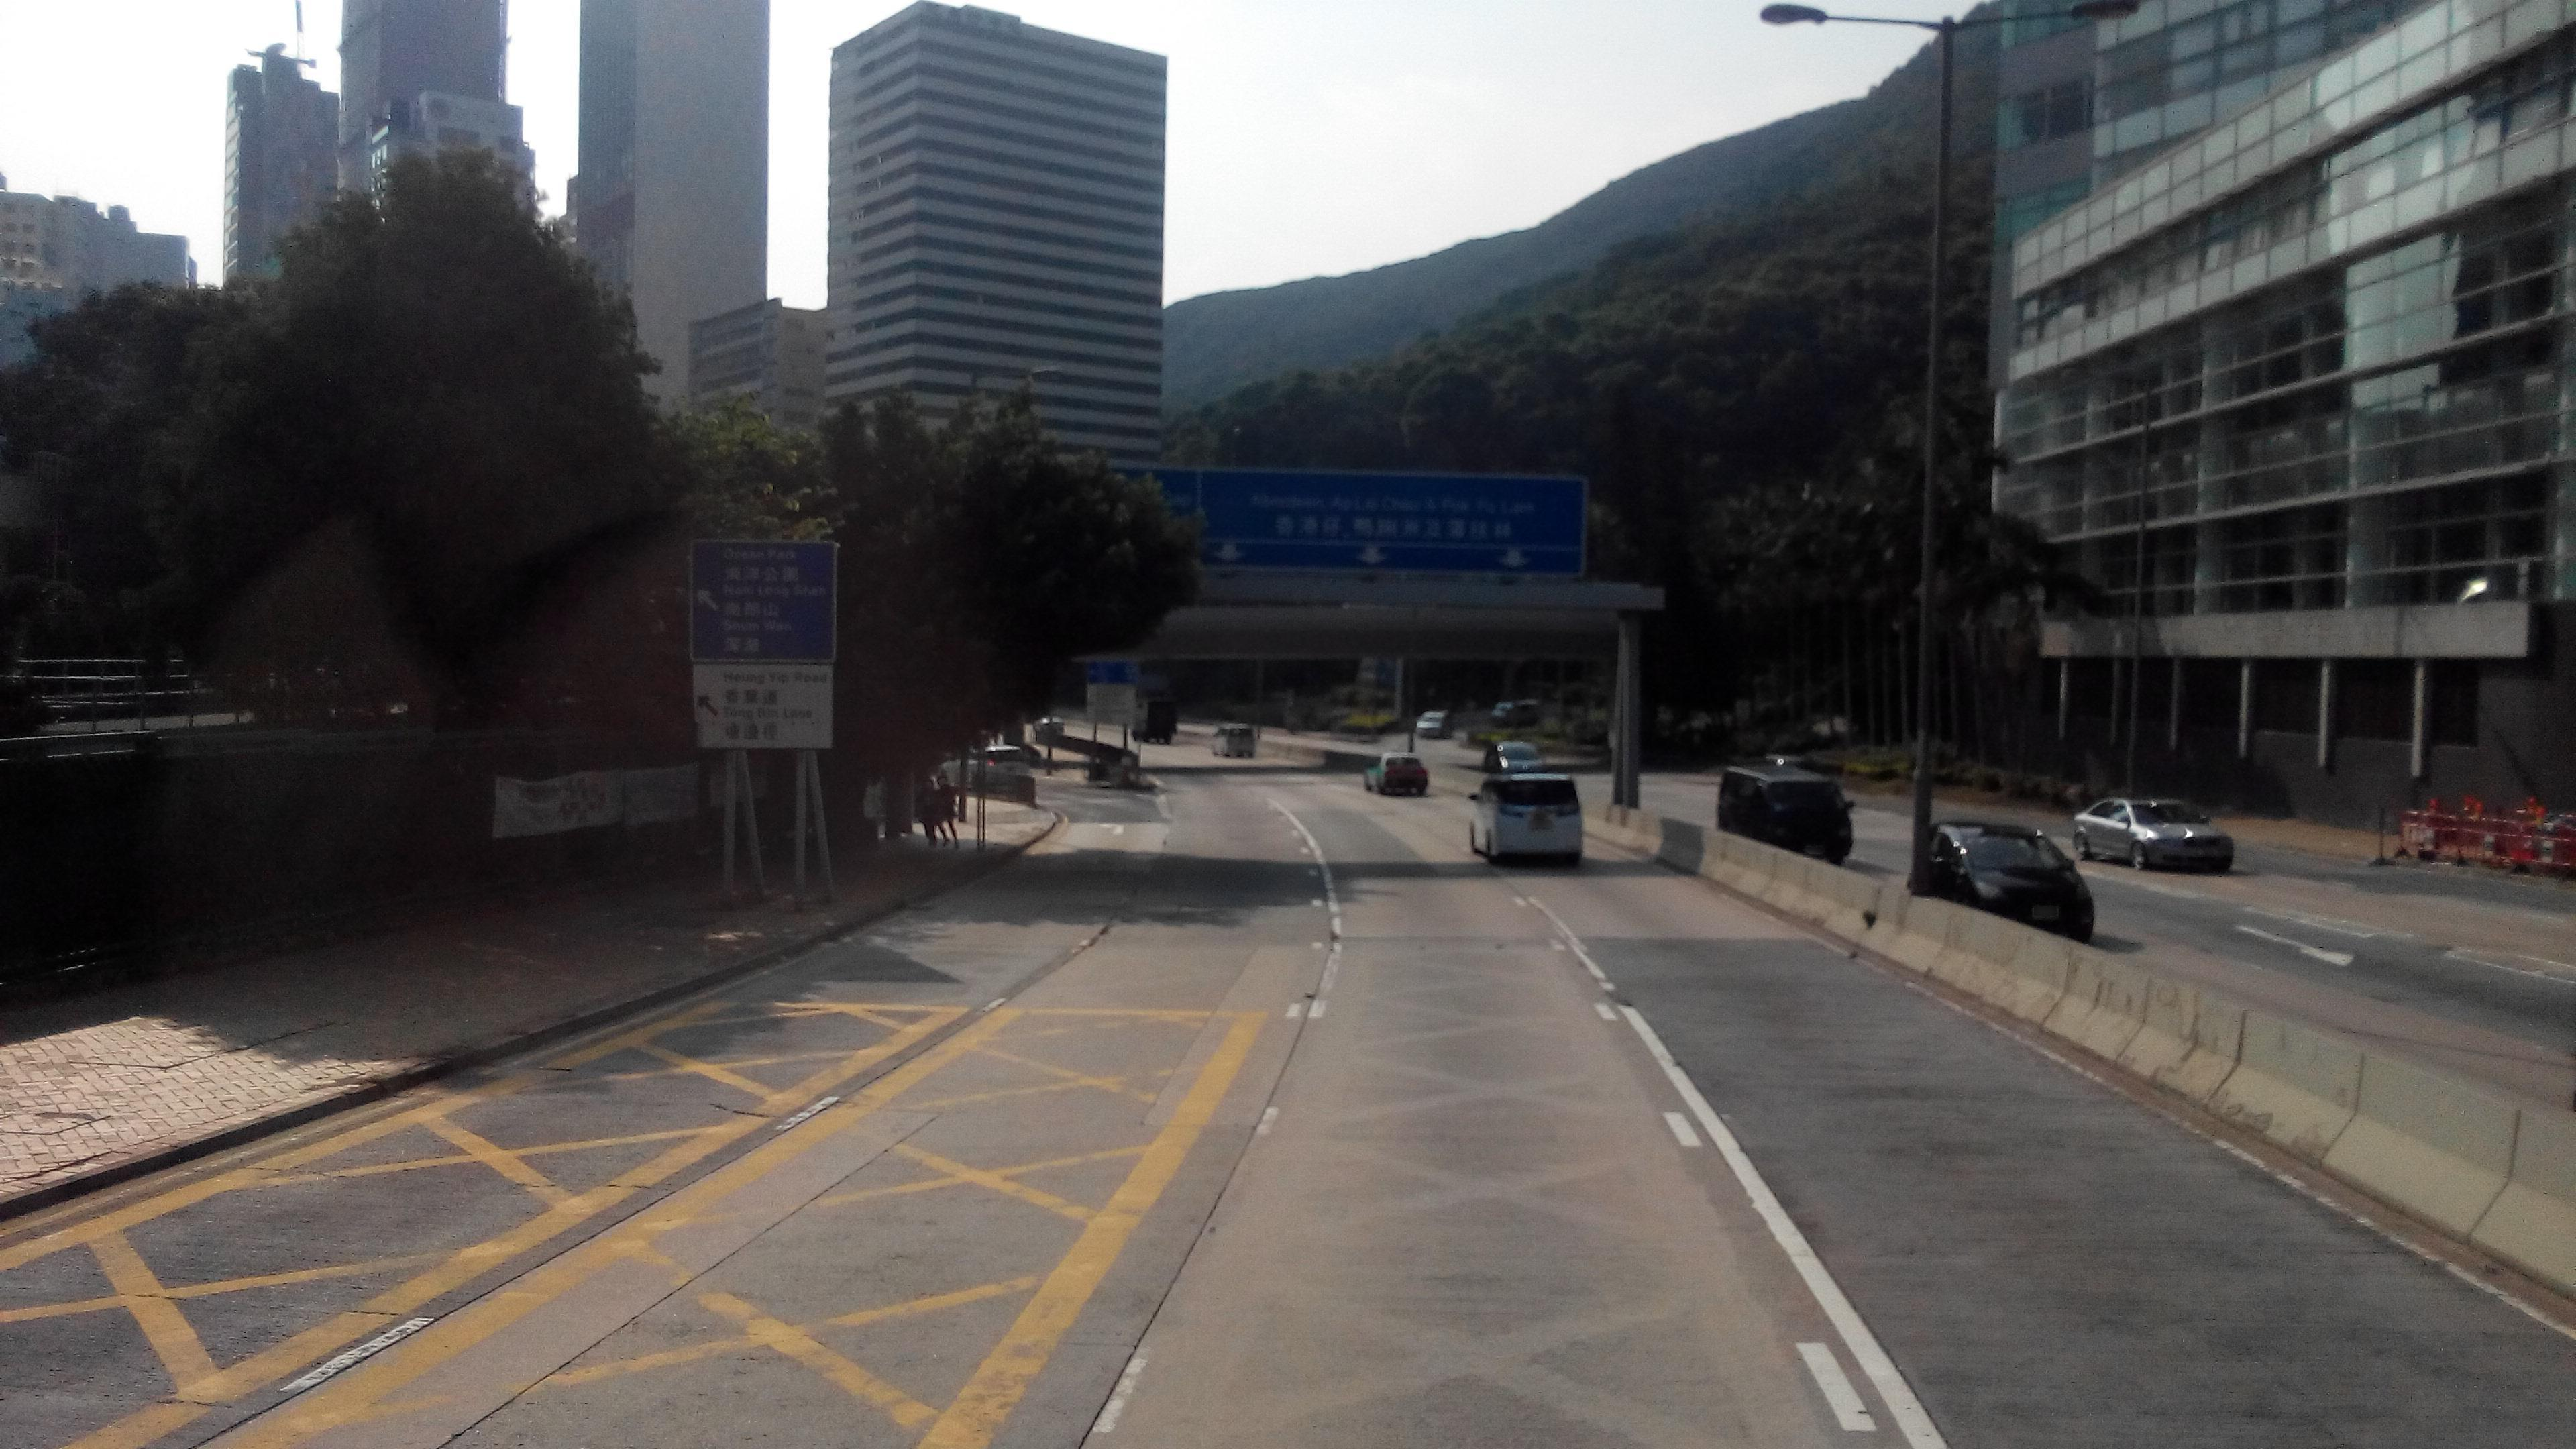vinyl banner: (471, 759, 628, 853), (637, 755, 709, 835)
